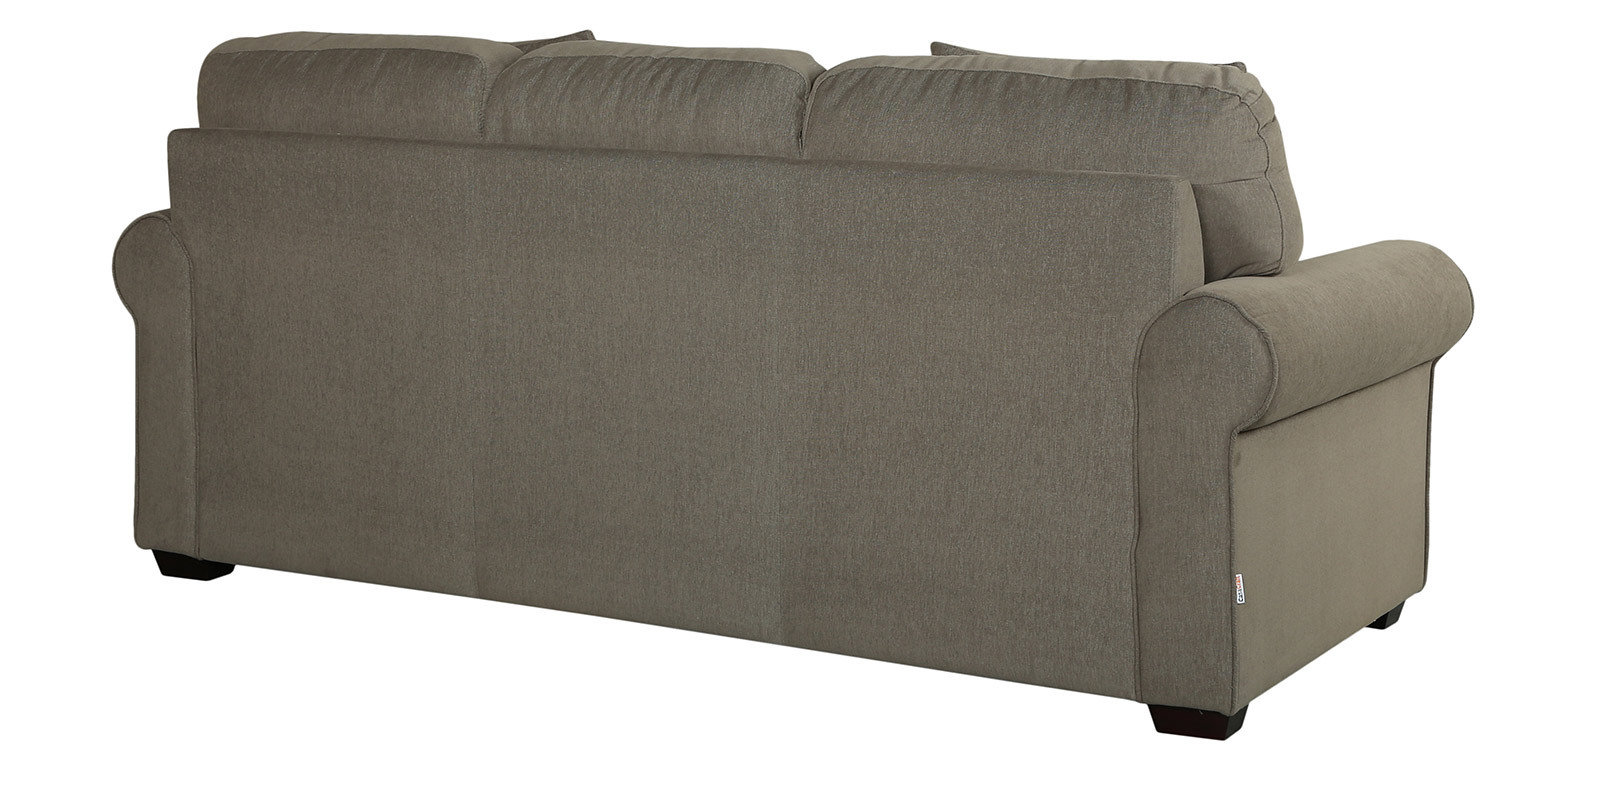Madeira Three Seater Sofa in Sandy Brown Colour by CasaCraft: (110, 28, 1477, 739)
